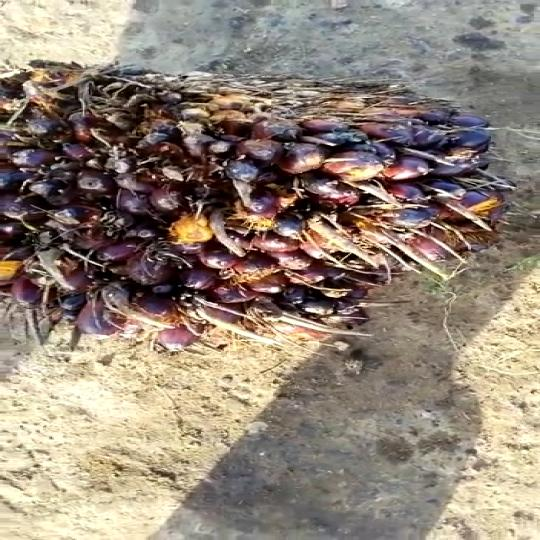masak: (0, 46, 506, 354)
